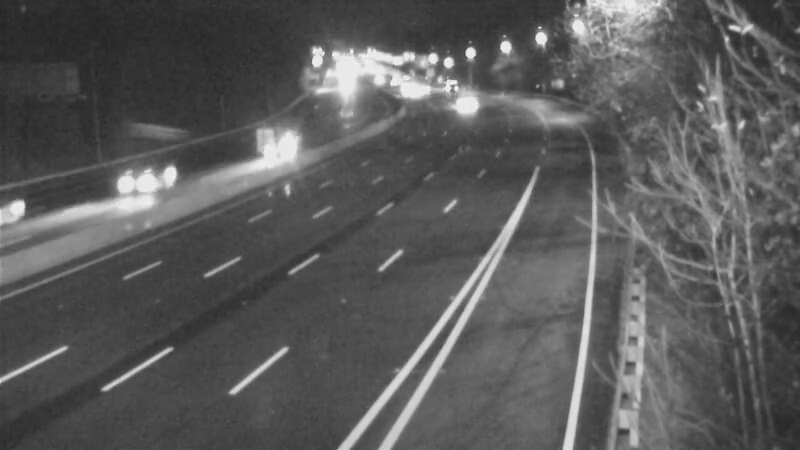vehicle: (102, 143, 182, 223), (1, 164, 69, 244), (422, 63, 472, 113), (444, 82, 494, 132), (260, 122, 310, 172)
